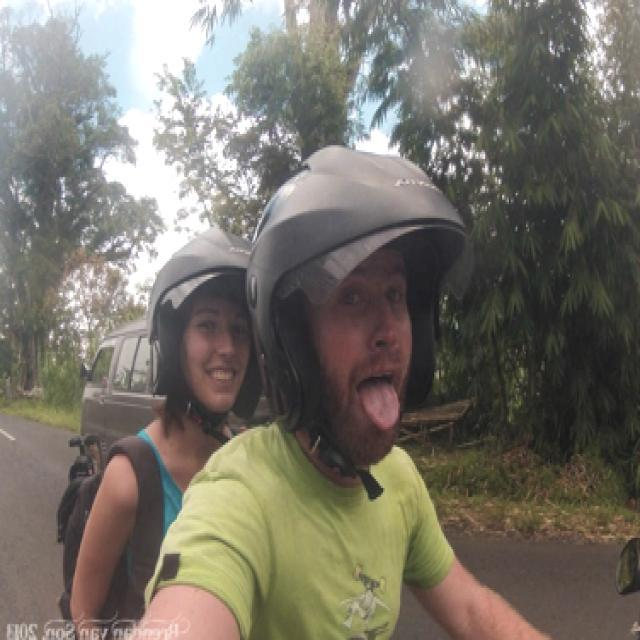Helmet: (240, 145, 475, 477)
